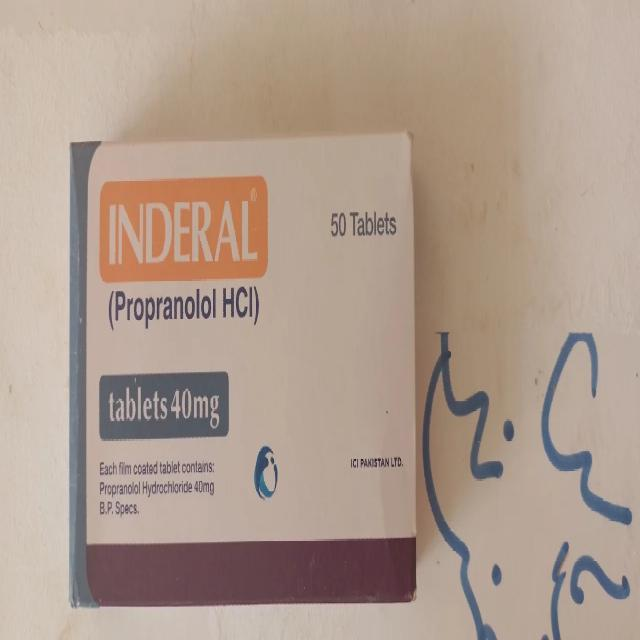drug-name: (108, 200, 258, 266)
